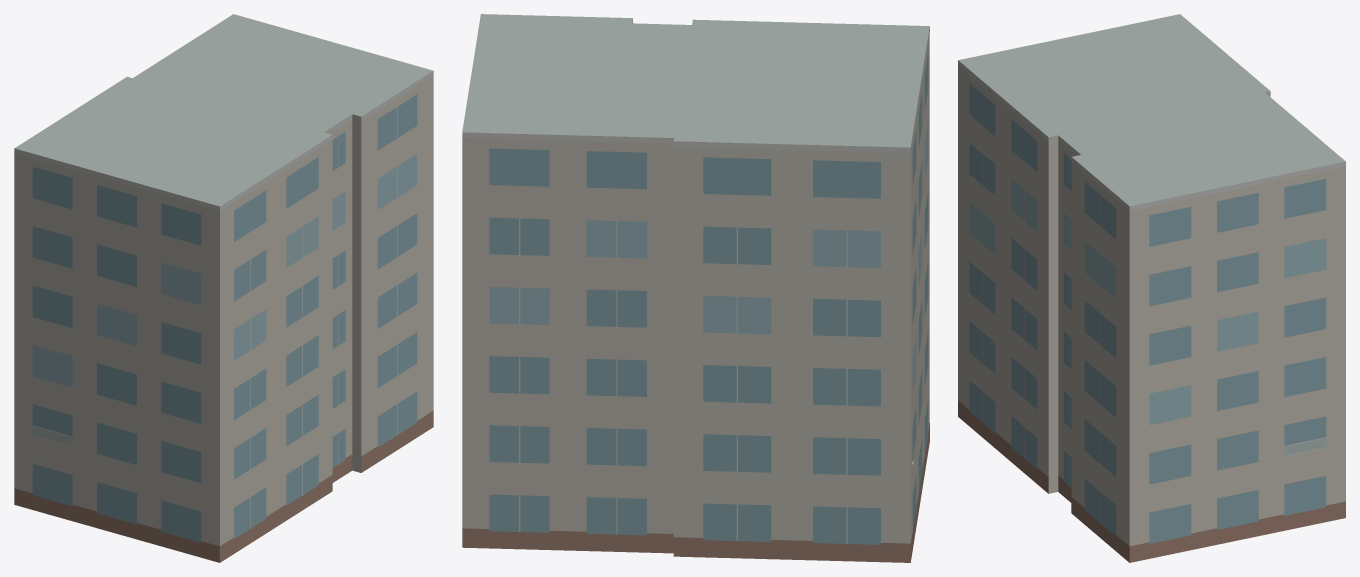
The model's file is survey-upis-32659094.glb.
3 renders of one model, left to right at view 1: azimuth 30°, elevation 25°; view 2: azimuth 150°, elevation 25°; view 3: azimuth 270°, elevation 25°, orthographic. The views are drawn at different scales.
Parts seen in each view (by area): view 1: survey-upis-32659094.tmp; view 2: survey-upis-32659094.tmp; view 3: survey-upis-32659094.tmp.
Part boxes in pixels (<box>): survey-upis-32659094.tmp: <box>14,14,433,562</box>; survey-upis-32659094.tmp: <box>462,14,929,562</box>; survey-upis-32659094.tmp: <box>958,14,1345,562</box>.
Bounding box in the file's own units: 21.18 × 18.3 × 18.05.
